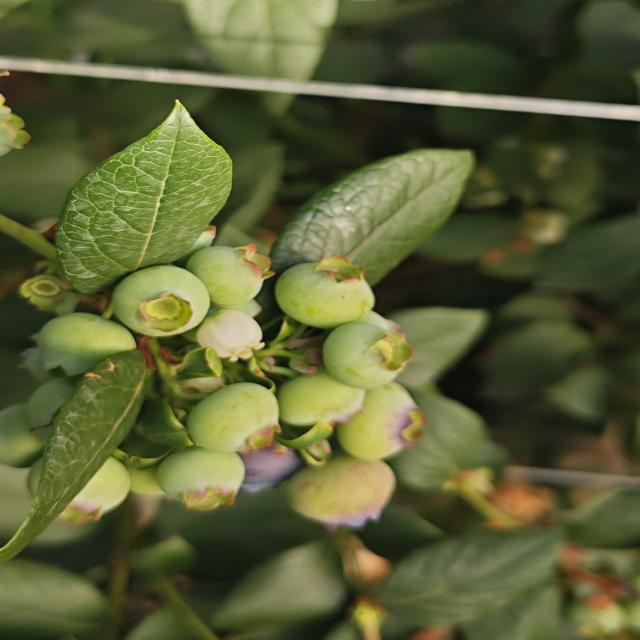ripe: (234, 444, 300, 504)
